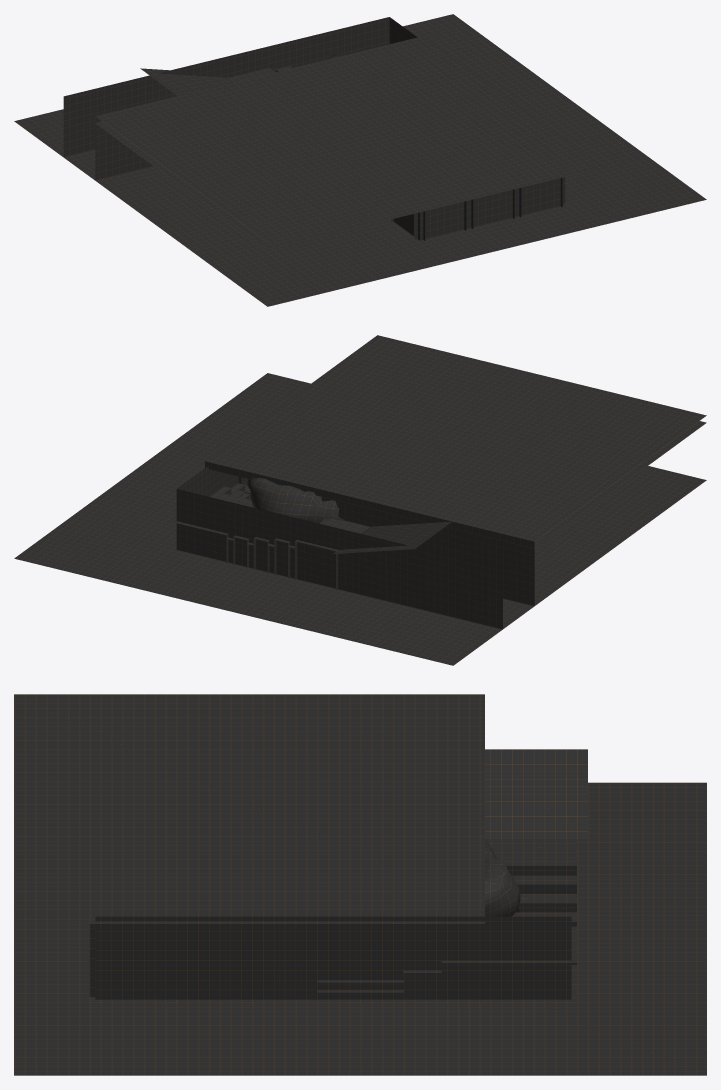
File: reflectionTest.obj
The picture shows the model from 3 angles, top to bottom: view 1: azimuth 30°, elevation 25°; view 2: azimuth 150°, elevation 25°; view 3: azimuth 270°, elevation 25°; orthographic projection. The views are drawn at different scales.
Parts seen in each view (by area): view 1: map; view 2: map; view 3: map.
Boxes of the visible parts, x1=… form: map: x1=14, y1=14, x2=706, y2=306; map: x1=14, y1=335, x2=706, y2=665; map: x1=14, y1=694, x2=706, y2=1075.
Bounding box in the file's own units: 208 × 31.8 × 208.
1 material, 1 textured.
